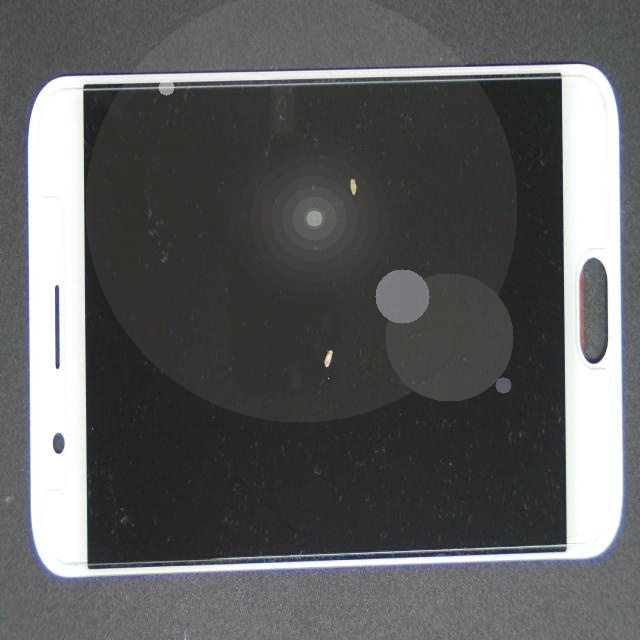stain: (163, 155, 475, 532), (167, 109, 503, 328)
